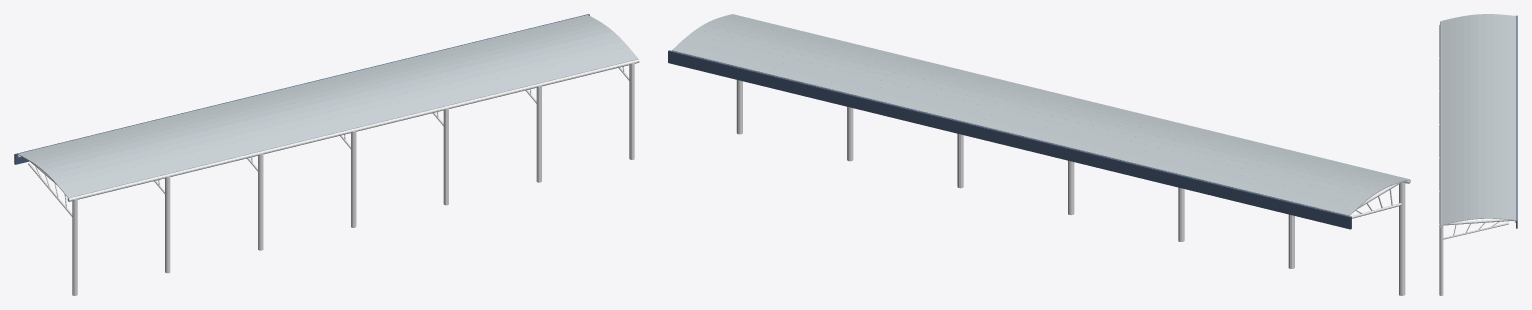
The model's file is standroof.glb.
3 renders of one model, left to right at view 1: azimuth 30°, elevation 25°; view 2: azimuth 150°, elevation 25°; view 3: azimuth 270°, elevation 25°, orthographic. The views are drawn at different scales.
Visible parts, largest first — view 1: Cube, Cylinder, Cube.010; view 2: Cube, Cube.010, Cylinder; view 3: Cube, Cylinder, Cube.010.
Part boxes in pixels (<box>): Cube: <box>17,15,638,198</box>; Cylinder: <box>17,59,639,295</box>; Cube.010: <box>14,14,589,164</box>; Cube: <box>672,14,1409,215</box>; Cube.010: <box>668,50,1351,229</box>; Cylinder: <box>677,52,1410,295</box>; Cube: <box>1441,14,1515,225</box>; Cylinder: <box>1439,16,1516,295</box>; Cube.010: <box>1516,15,1517,228</box>.
Bounding box in the file's own units: 26.8 × 4.81 × 4.3.
